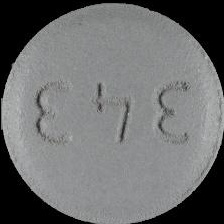54458-863: (0, 0, 224, 224)
